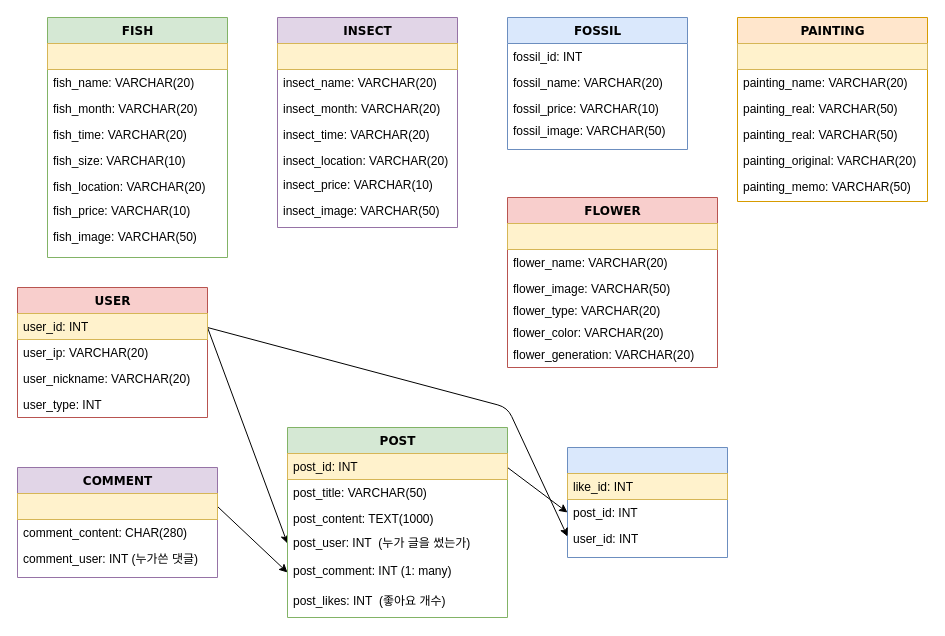
Some shapes in this 945 by 636 pixel diagram are drawn without their labels. The box of each missing label's shape, as (x1, y1, x2, y2) in pixels:
comment_id: INT: (16, 492, 218, 520)
fish_id: INT: (46, 42, 228, 70)
flower_id: INT: (506, 222, 718, 250)
insect_id: INT: (276, 42, 458, 70)
painting_id: INT: (736, 42, 928, 70)
POST_LIKED_USERS: (566, 446, 728, 558)
